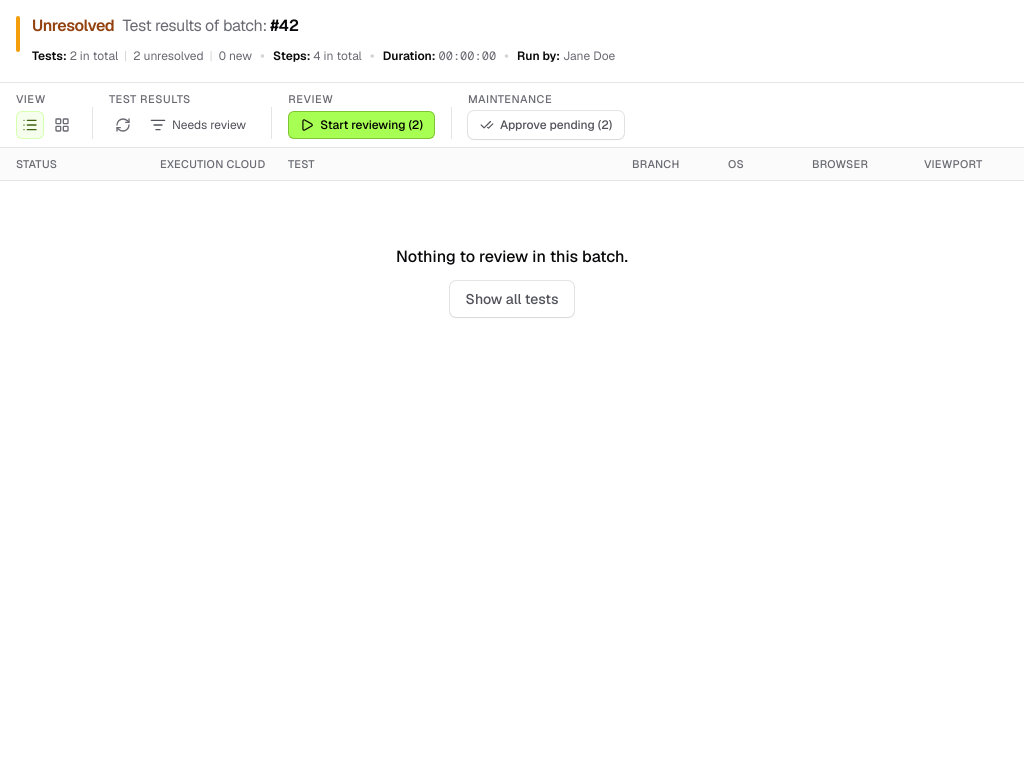
Scenario: BatchPage › closing the Approve-pending question returns focus to its toolbar button
Step 1. Click the button with test id "batch-approve-all" → (546, 125), box [468,111,624,139]
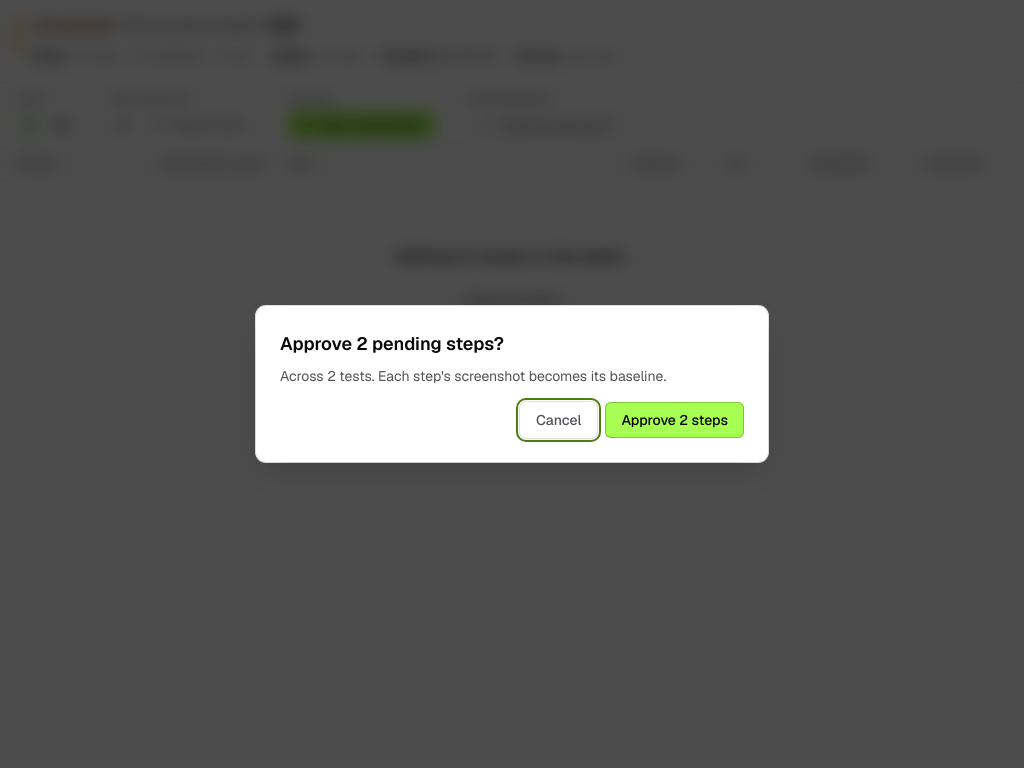
Step 2. Click the button with test id "approve-pending-cancel" → (559, 420), box [520,402,598,438]
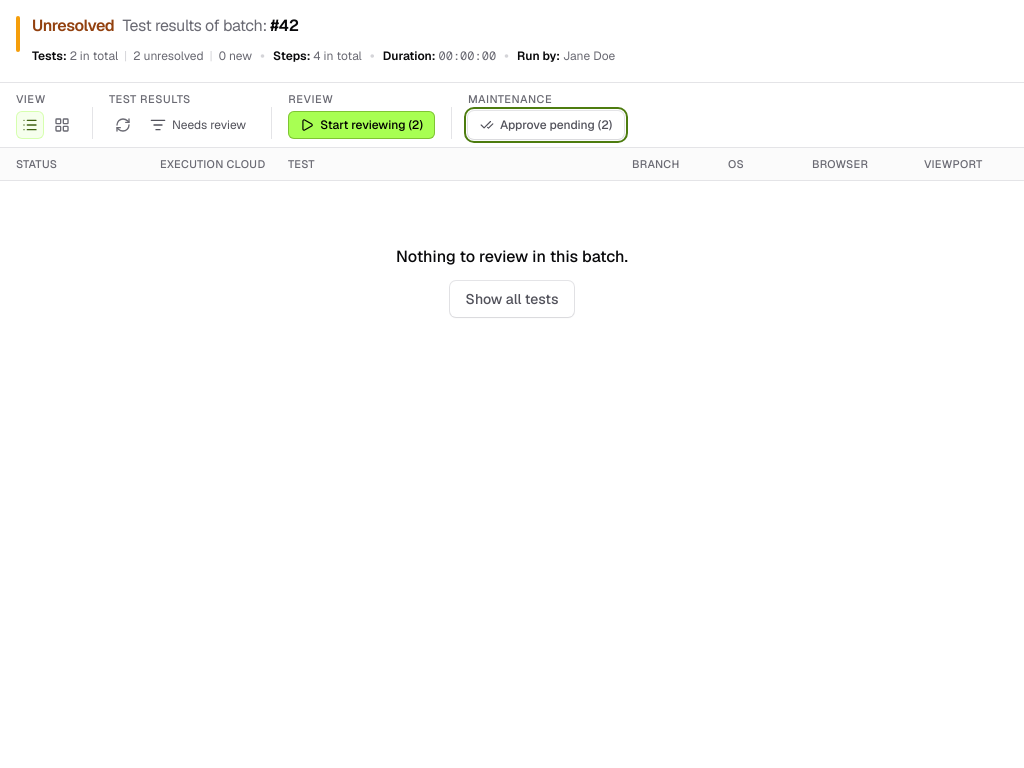
expect the dialog is gone: met
